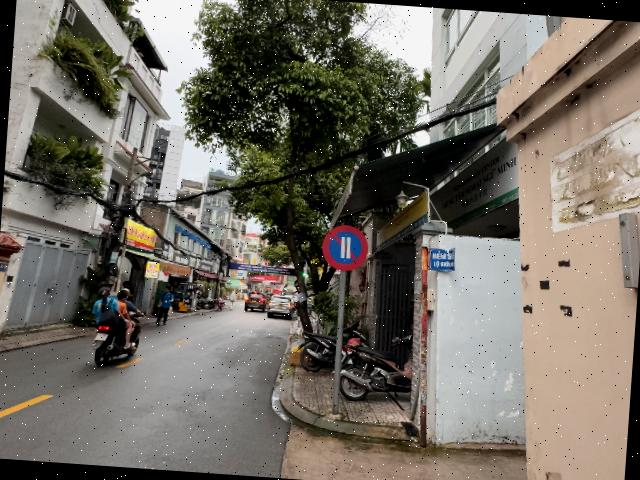cam-do-xe-ngay-chan: (321, 223, 368, 272)
